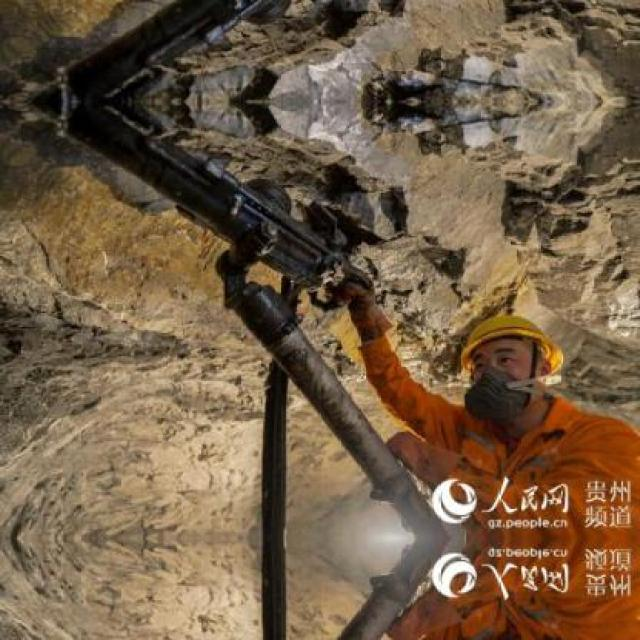helmet: (448, 304, 570, 401)
